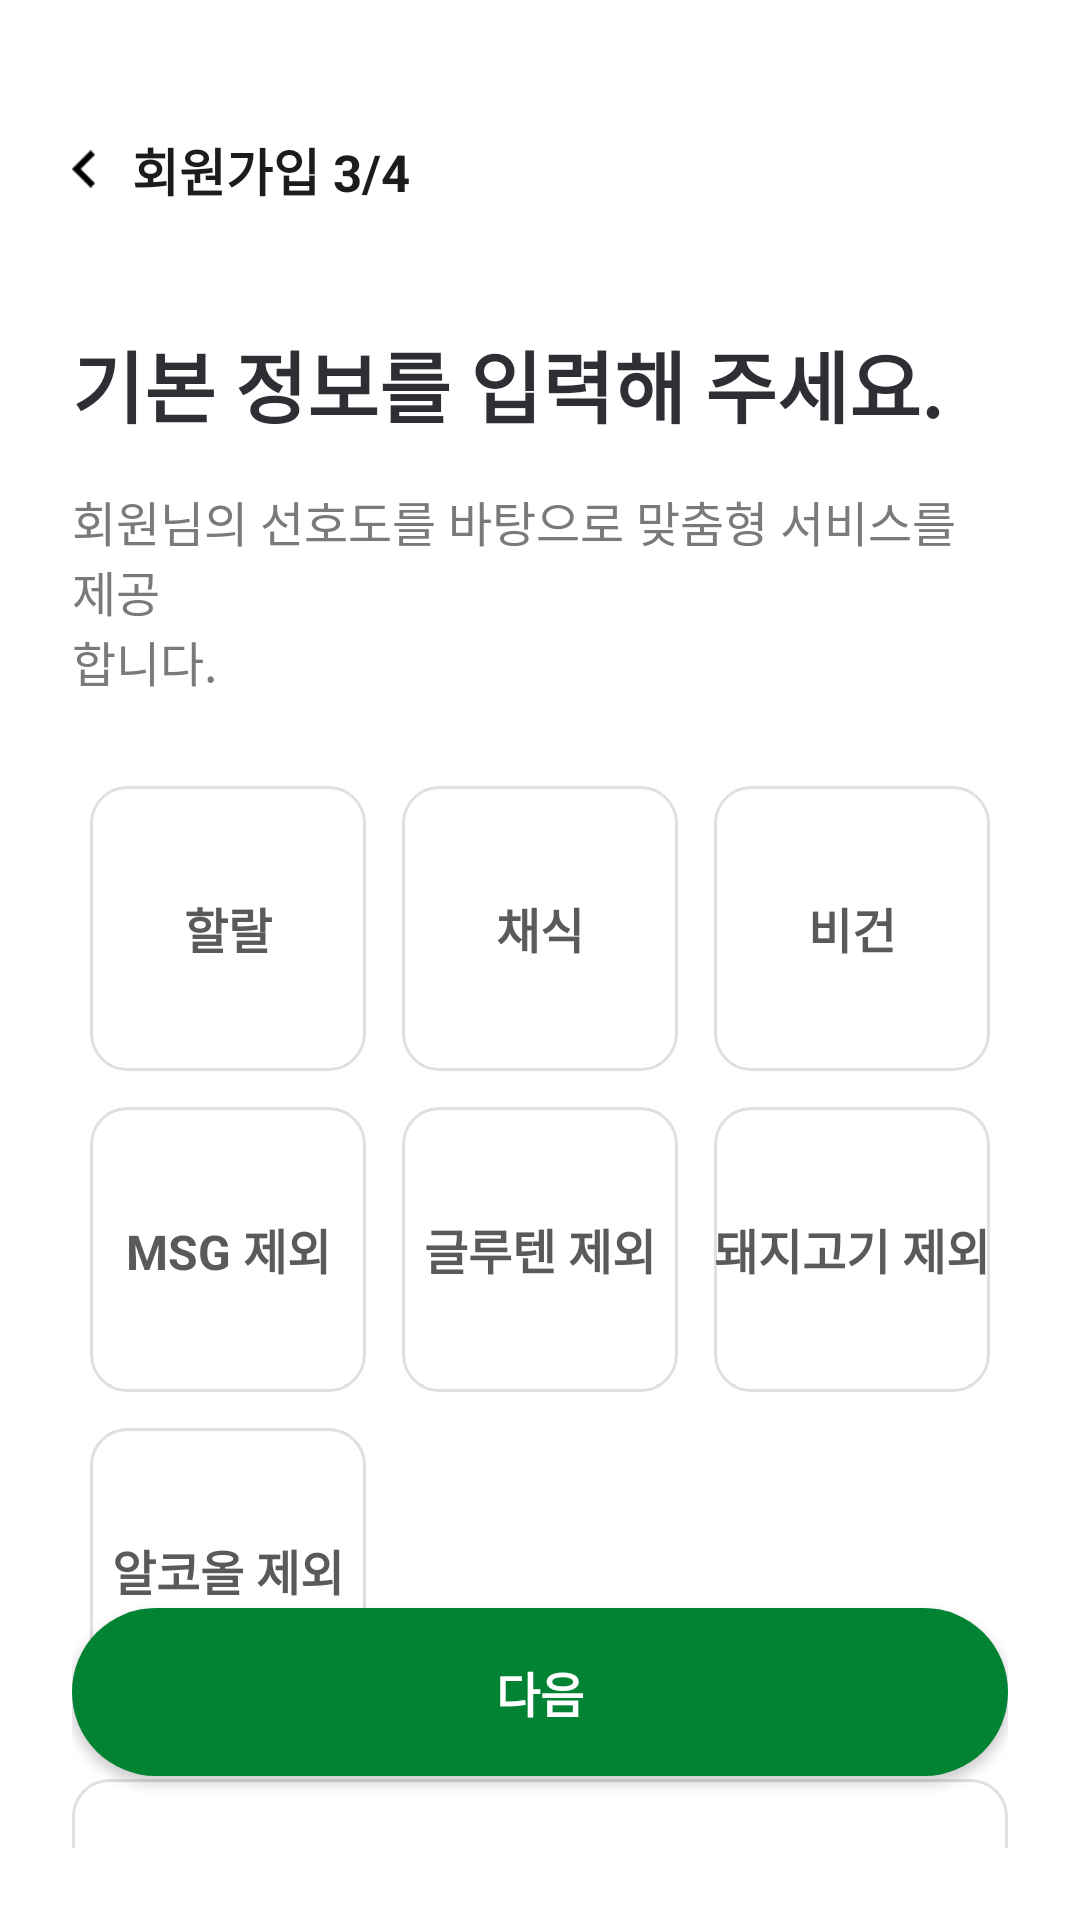

Named icons in this screenshot (1080x1920) and their centers, point (x, y):
Back: point (83, 169)
